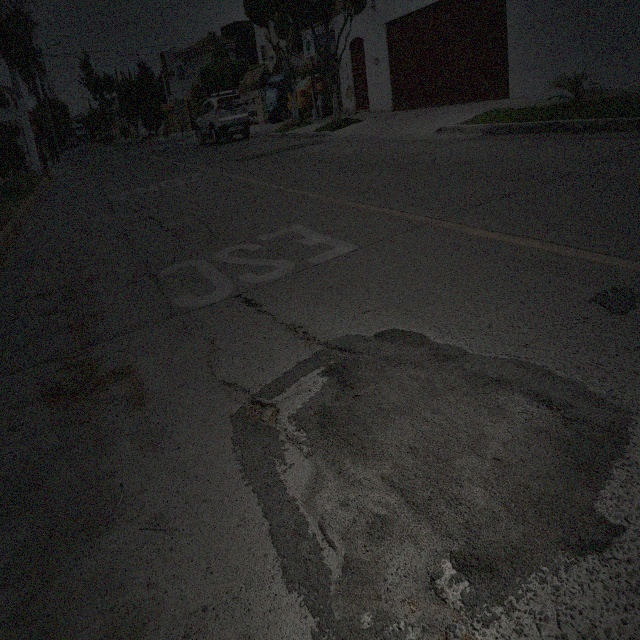pothole: (282, 431, 305, 505), (243, 392, 280, 428)
